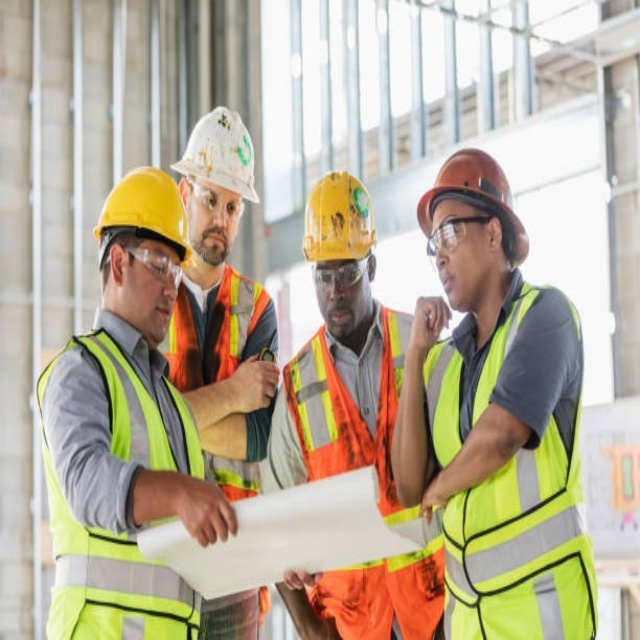Gafas: (118, 237, 186, 289), (313, 249, 373, 295), (185, 177, 245, 223), (424, 212, 485, 256)
Sin_guantes: (165, 471, 239, 550), (231, 344, 281, 416), (407, 295, 451, 348), (417, 473, 453, 524), (283, 566, 318, 593)
Sin_mascara: (438, 267, 471, 306), (197, 223, 231, 260), (142, 298, 175, 331), (322, 298, 352, 328)
